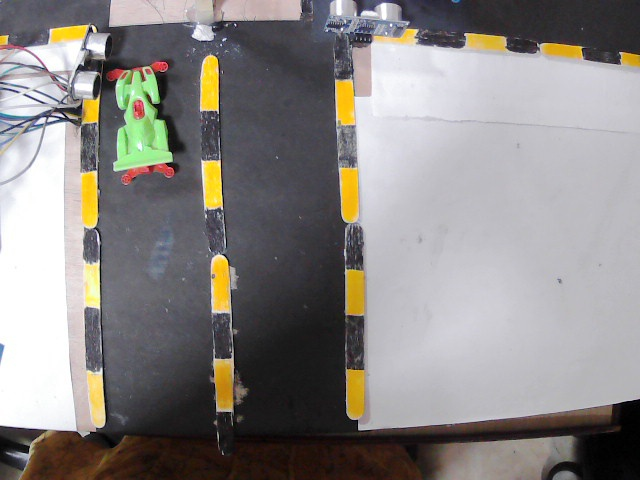black_strip: (82, 307, 104, 370), (203, 210, 230, 257), (199, 112, 223, 162), (332, 125, 358, 169), (344, 318, 365, 370), (209, 312, 231, 361), (79, 122, 99, 171), (329, 39, 352, 81), (417, 31, 465, 51), (344, 225, 365, 268), (583, 42, 618, 66), (214, 415, 236, 452), (9, 23, 44, 45), (82, 229, 101, 263), (506, 34, 537, 53)
car: (108, 59, 177, 183)
mixed_lane: (197, 51, 237, 453), (330, 45, 367, 417), (383, 24, 640, 66), (1, 26, 88, 51)
uno_breadboard: (67, 27, 114, 99), (326, 0, 408, 40)
yellow_strip: (208, 256, 232, 311), (211, 361, 236, 410), (335, 169, 358, 222), (200, 161, 225, 207), (86, 373, 107, 427), (333, 80, 358, 124), (343, 369, 365, 418), (200, 57, 220, 110), (77, 172, 97, 224), (343, 269, 365, 315), (49, 18, 90, 42), (80, 264, 101, 305), (466, 34, 506, 53), (539, 43, 583, 60), (373, 29, 416, 43), (80, 97, 99, 119), (621, 51, 640, 64), (1, 33, 9, 47)
